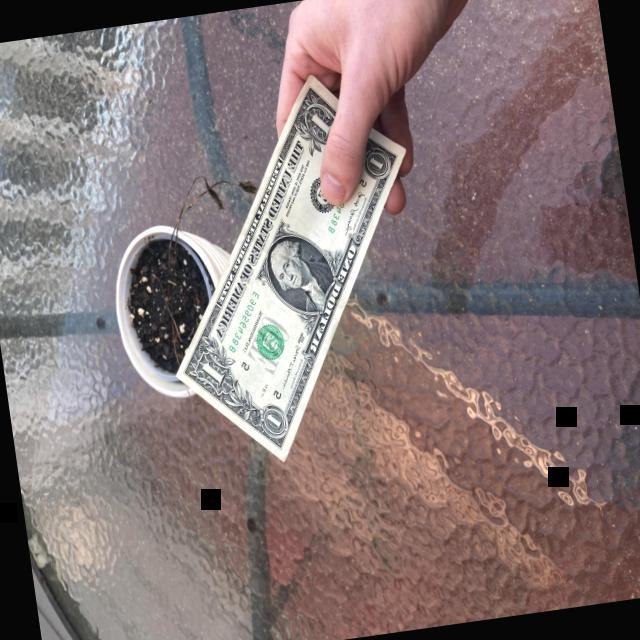one: (176, 71, 407, 462)
